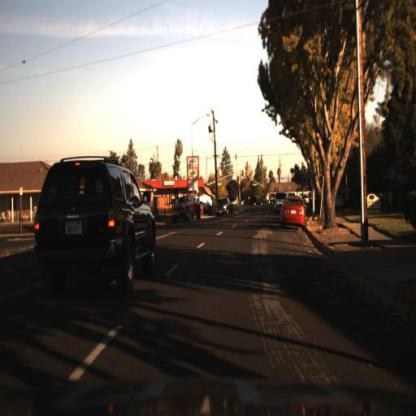car: (28, 147, 154, 305), (166, 188, 203, 226), (277, 191, 307, 229), (211, 192, 236, 223), (272, 187, 289, 217)
